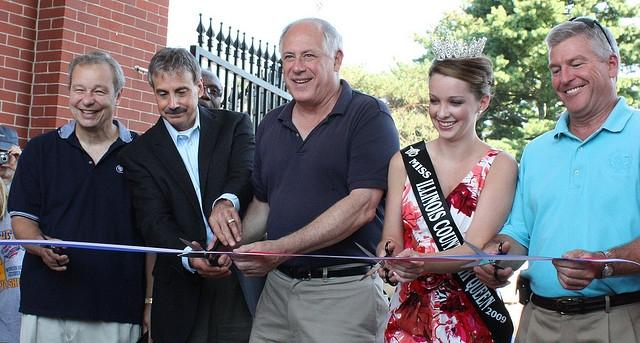strawberry: (400, 139, 515, 342)
